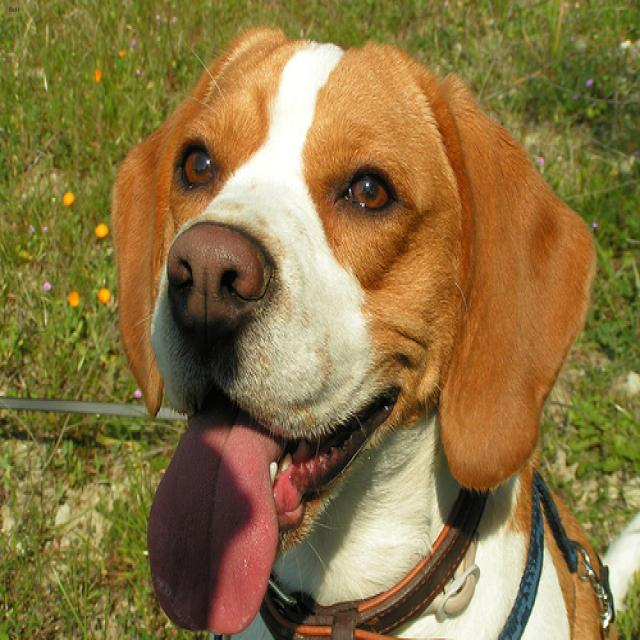dog-beagle: (105, 17, 626, 637)
